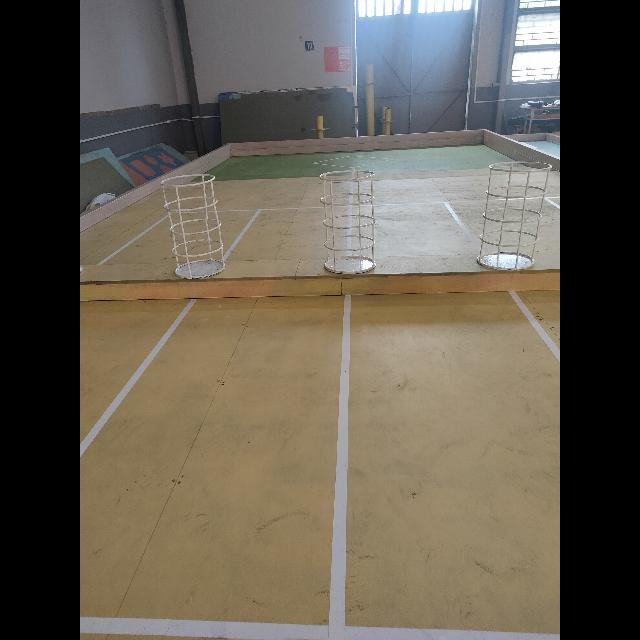S: (475, 161, 553, 272), (160, 173, 227, 280), (319, 169, 377, 274)
